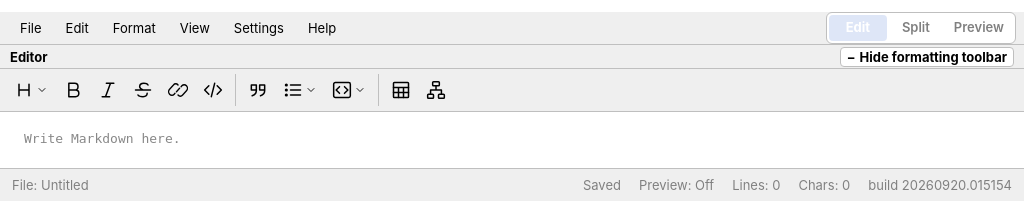
Test: document session safety › exposes one focusable Japanese Preview reason in the visible preview pane
Click the button "Settings" at (259, 28), box [222,12,296,44]
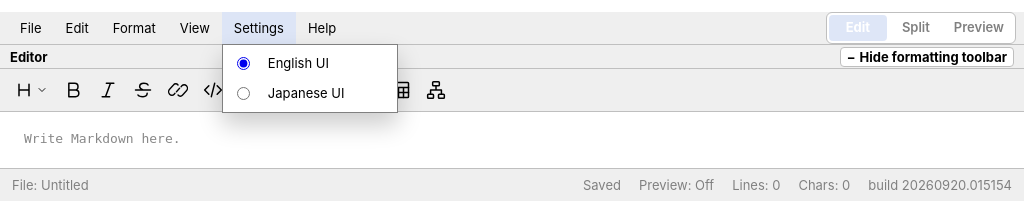
Click the radio button named "language" at (243, 93), box [237,87,250,100]
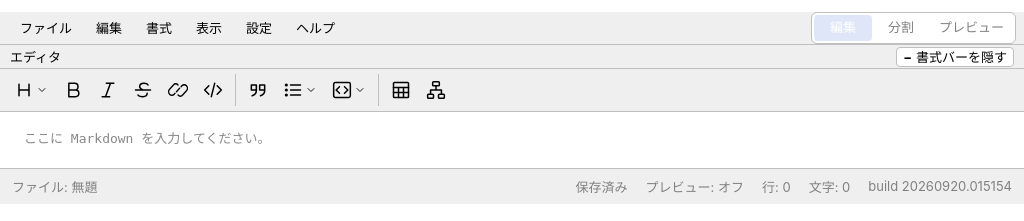
Click the button "プレビュー" at (972, 28), box [930,15,1013,41]
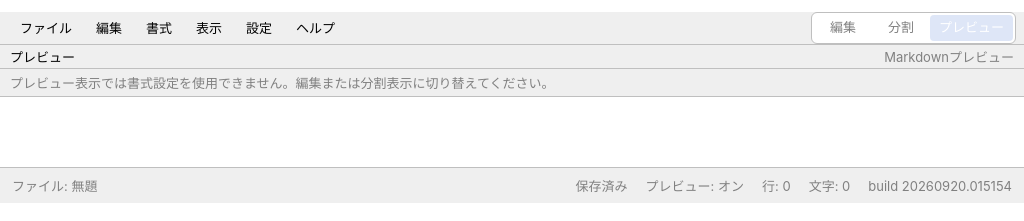
Now the message "プレビュー表示では書式設定を使用できません。編集または分割表示に切り替えてください。" is shown, box [0,69,1023,97]
Now the number of messages is 1, box [0,69,1023,97]
